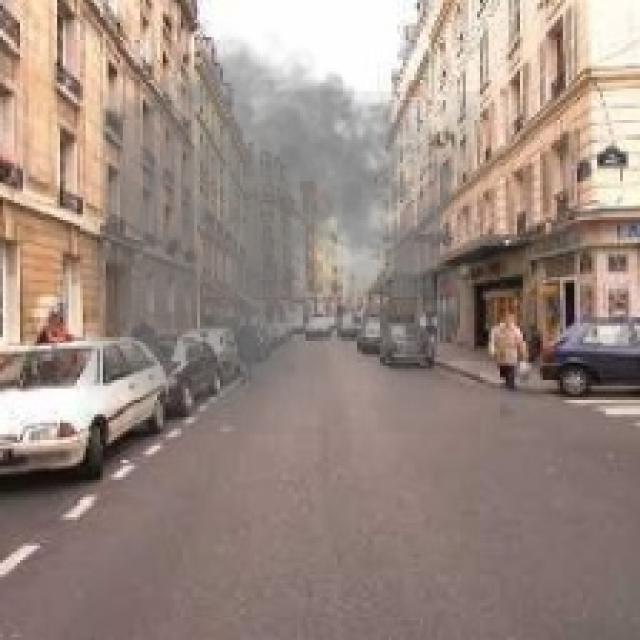Smoke: (77, 22, 483, 434)
